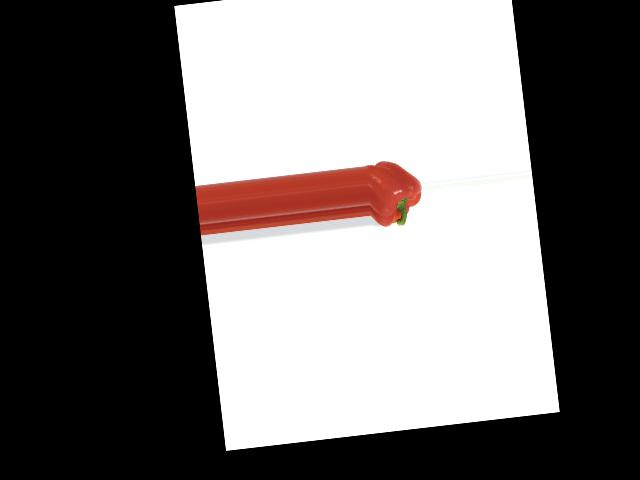bell_pepper: (363, 149, 426, 237)
